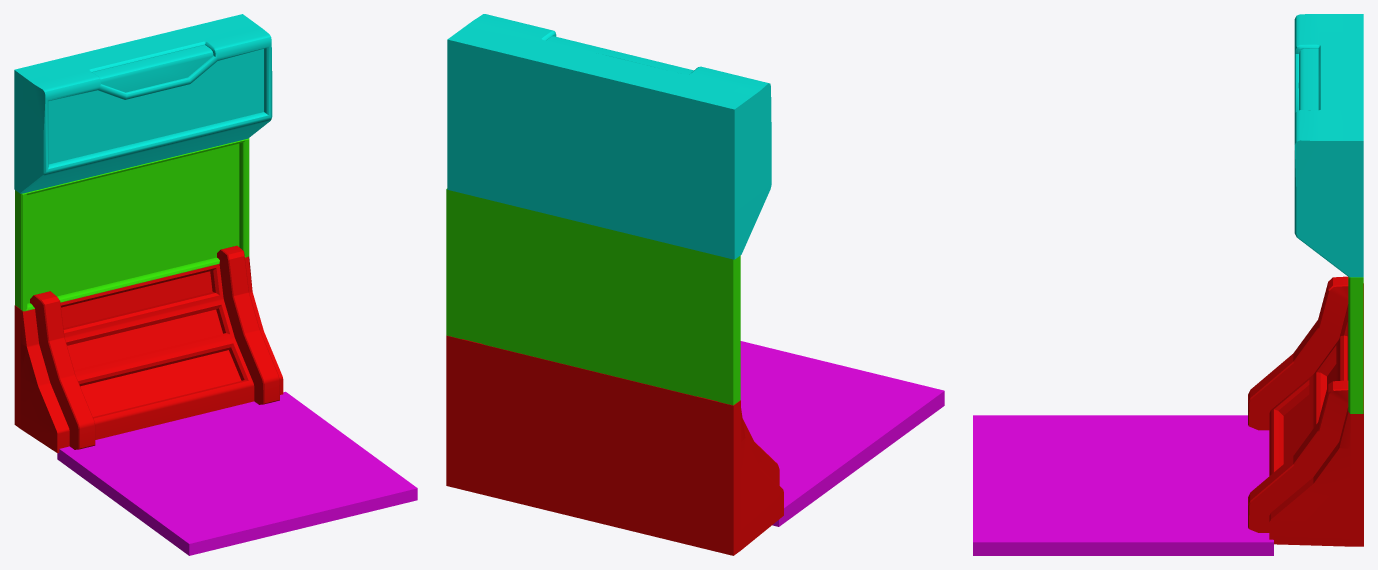
Rendered from WallFloorTest.fbx.
The picture shows the model from 3 angles, left to right: view 1: azimuth 30°, elevation 25°; view 2: azimuth 150°, elevation 25°; view 3: azimuth 270°, elevation 25°; orthographic projection. The views are drawn at different scales.
Parts seen in each view (by area): view 1: AnglePiece5, pCube69, AnglePiece6, BasePiece014; view 2: AnglePiece6, AnglePiece5, BasePiece014, pCube69; view 3: pCube69, AnglePiece5, AnglePiece6, BasePiece014.
Boxes of the visible parts, x1=… form: AnglePiece5: x1=14, y1=245, x2=283, y2=453; pCube69: x1=57, y1=391, x2=417, y2=555; AnglePiece6: x1=14, y1=14, x2=272, y2=193; BasePiece014: x1=15, y1=138, x2=249, y2=311; AnglePiece6: x1=447, y1=14, x2=771, y2=259; AnglePiece5: x1=446, y1=335, x2=783, y2=555; BasePiece014: x1=446, y1=188, x2=740, y2=405; pCube69: x1=740, y1=341, x2=944, y2=526; pCube69: x1=973, y1=415, x2=1273, y2=555; AnglePiece5: x1=1248, y1=276, x2=1363, y2=546; AnglePiece6: x1=1294, y1=14, x2=1363, y2=277; BasePiece014: x1=1348, y1=277, x2=1363, y2=413.
Bounding box in the file's own units: 2.03 × 3.03 × 2.6.
